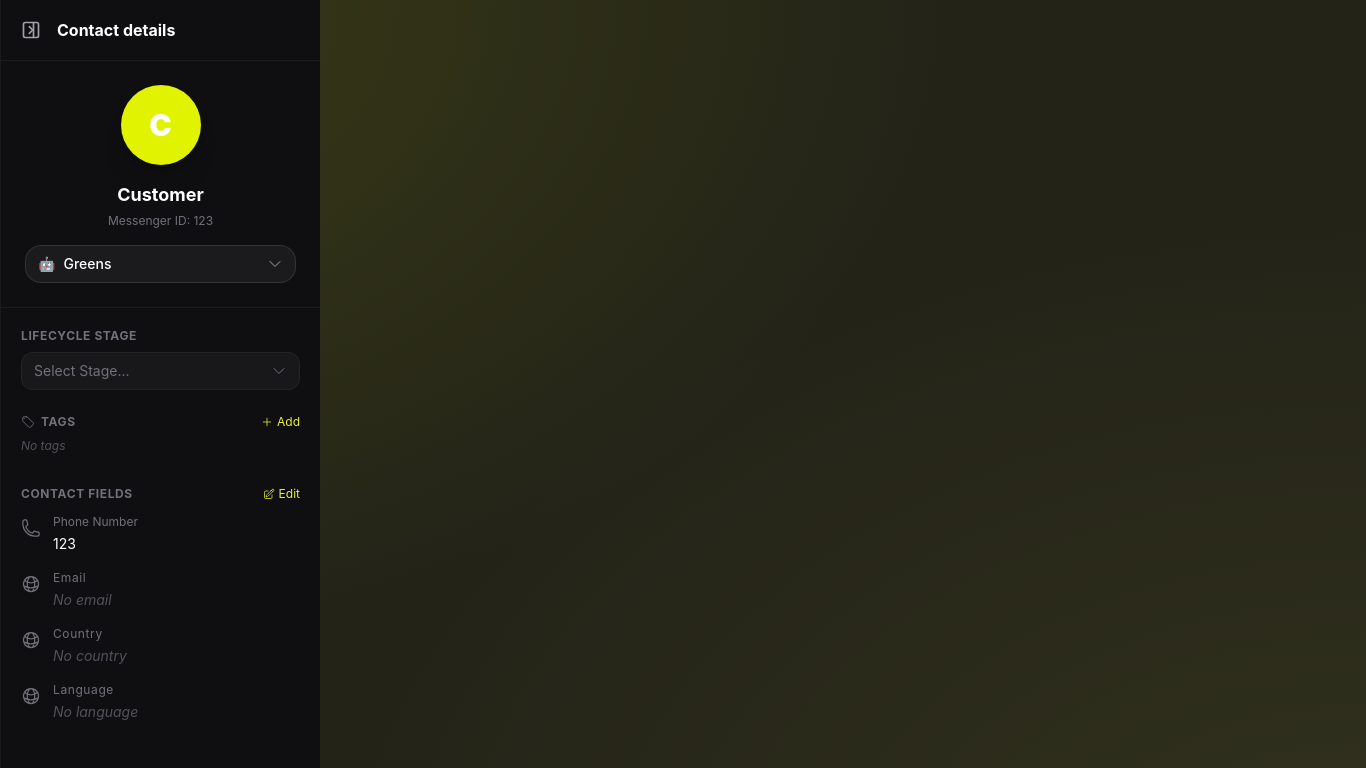
Test: conversation assignment menu › shows eligible owners but not viewers
Click the button "🤖 Greens".
click(87, 264)  # box [25,245,296,283]
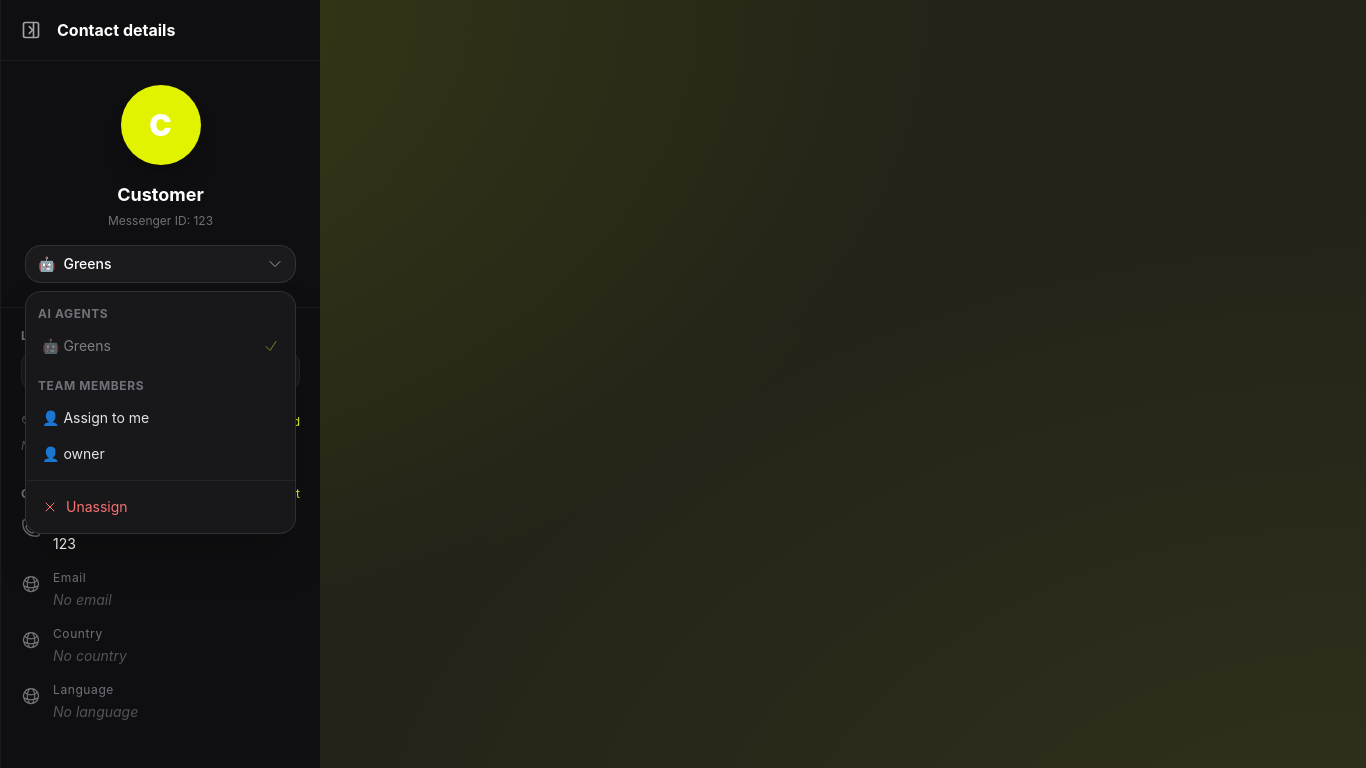
Now the text "👤 owner" is shown, box [42,444,105,464]
